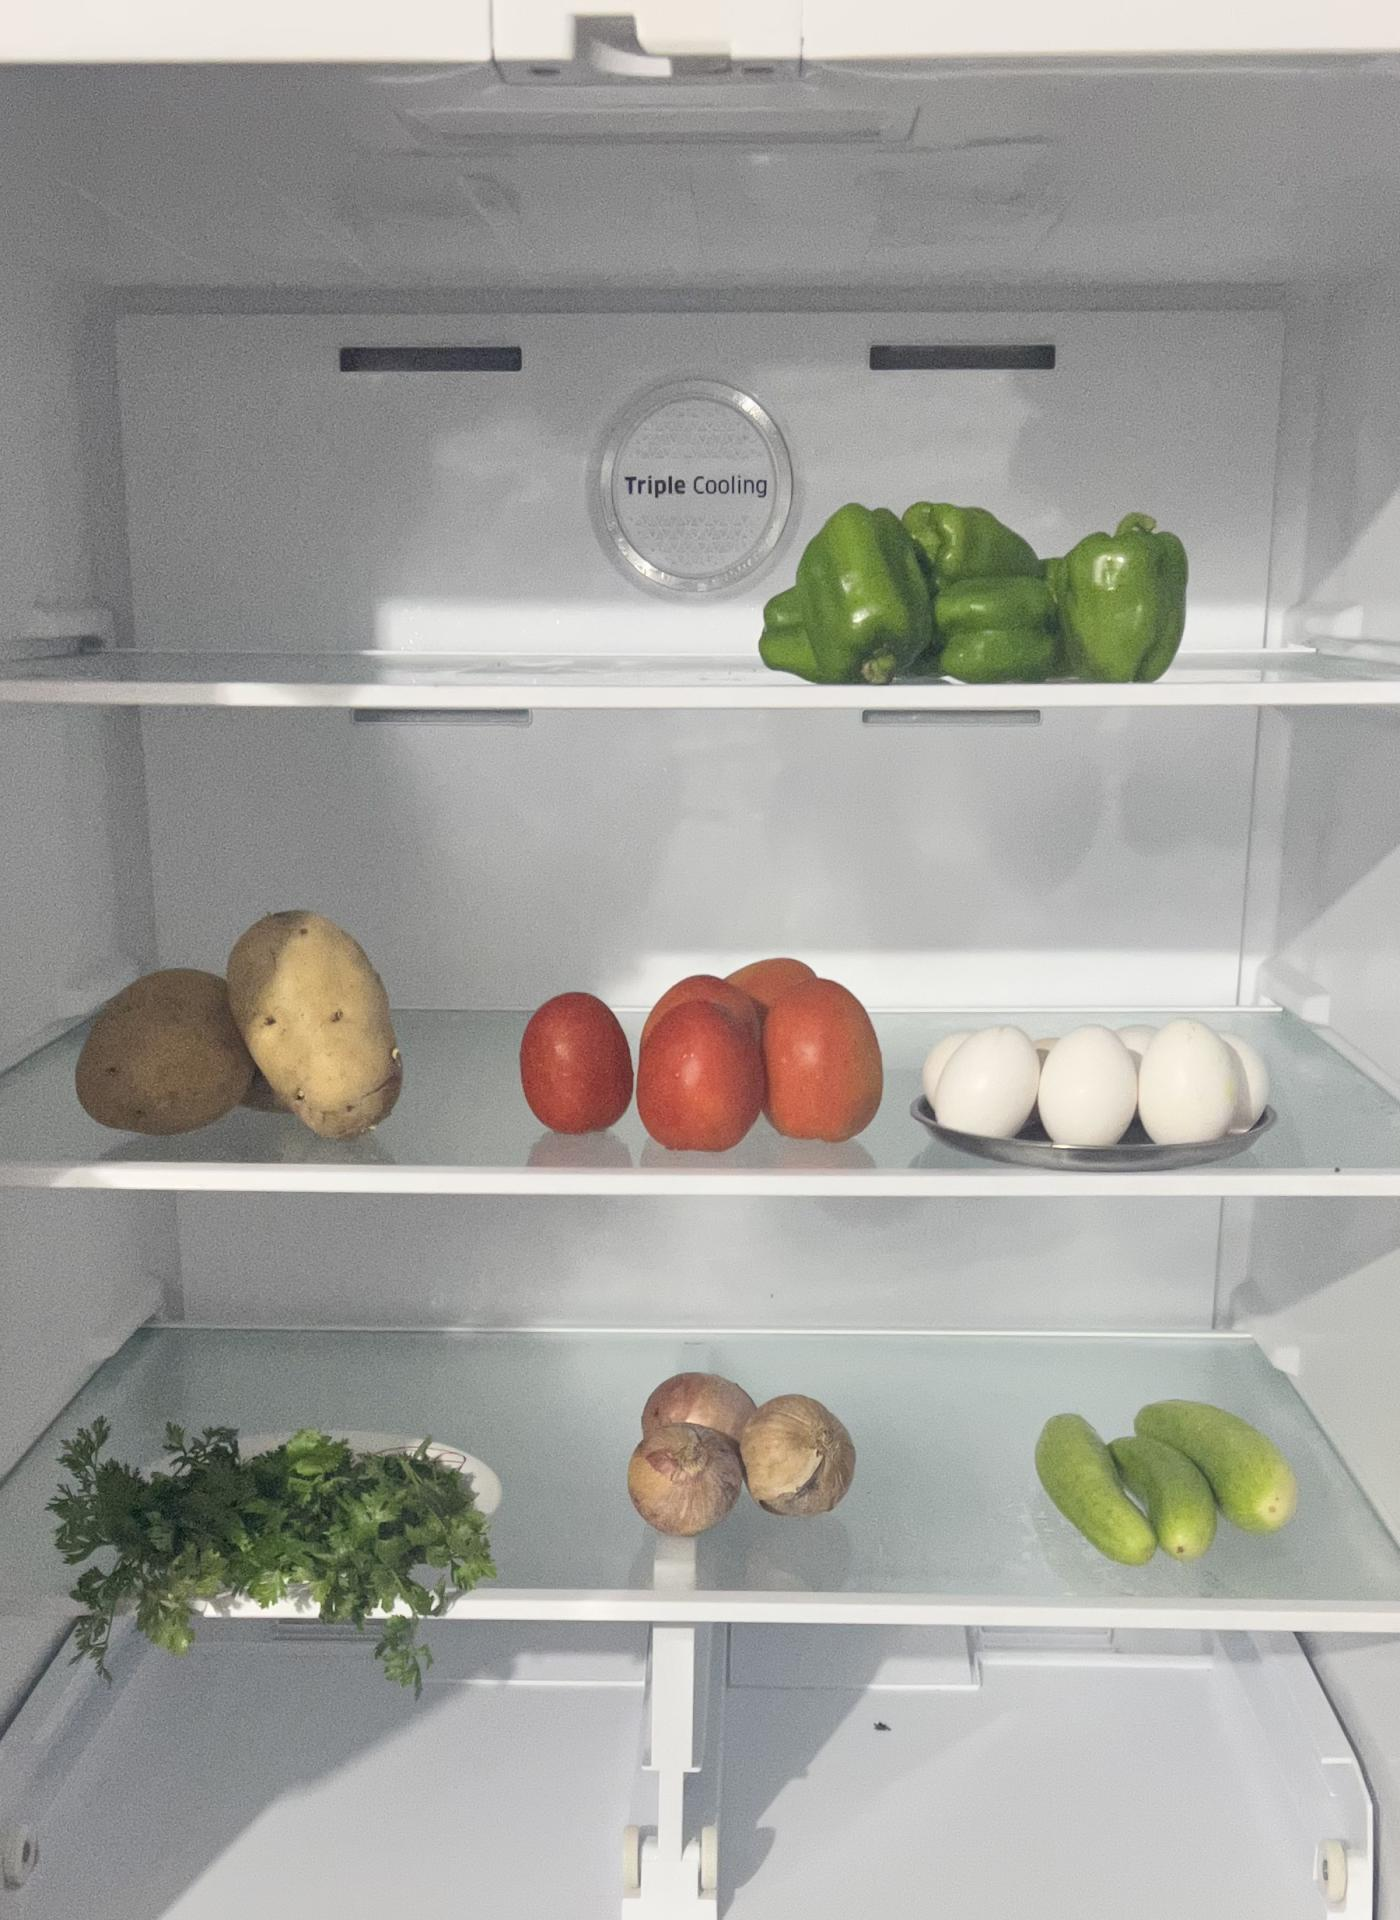capsicum: (766, 498, 1194, 674)
coriander: (61, 1425, 501, 1623)
cucumber: (1039, 1383, 1311, 1552)
egg: (921, 1029, 1267, 1164)
onion: (631, 1373, 860, 1534)
potato: (67, 905, 404, 1120)
tomato: (520, 960, 892, 1155), (522, 990, 638, 1137)
